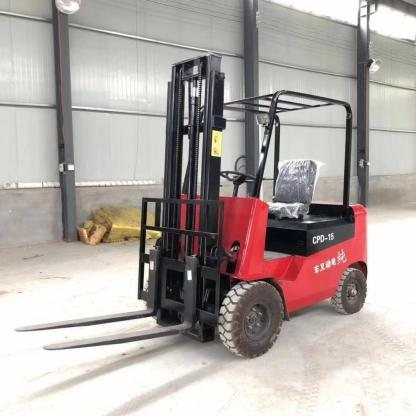forklift: (135, 50, 368, 360)
